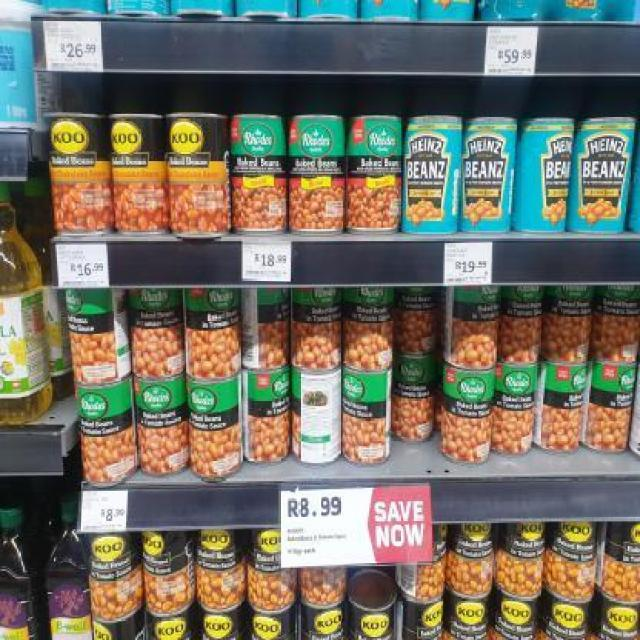Beans: (44, 116, 108, 162), (109, 116, 169, 164), (167, 115, 230, 160), (134, 380, 188, 420), (341, 369, 392, 411), (444, 368, 494, 410), (76, 388, 129, 427), (184, 286, 241, 322), (243, 370, 291, 410), (137, 532, 190, 568), (348, 604, 400, 640), (451, 282, 504, 315), (184, 386, 242, 416), (590, 361, 638, 397), (495, 592, 540, 630), (132, 288, 182, 321), (496, 364, 538, 402), (547, 597, 590, 634), (502, 519, 550, 552), (554, 516, 597, 552), (86, 534, 134, 566), (198, 529, 244, 562), (452, 520, 496, 554), (302, 606, 346, 640), (549, 363, 589, 400), (344, 284, 396, 312), (296, 286, 344, 316), (552, 284, 594, 318), (409, 598, 446, 634), (398, 358, 436, 392), (452, 596, 488, 630), (602, 600, 638, 634), (200, 612, 245, 638), (508, 282, 546, 310), (146, 616, 194, 638), (601, 285, 640, 311), (250, 614, 292, 638)
